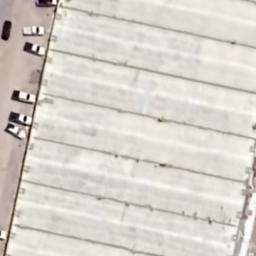pickup: (5, 123, 27, 140), (8, 111, 32, 126), (23, 42, 46, 57), (12, 90, 36, 103), (22, 26, 46, 35), (35, 0, 58, 7), (0, 230, 6, 240)
sedan: (1, 20, 12, 41)
